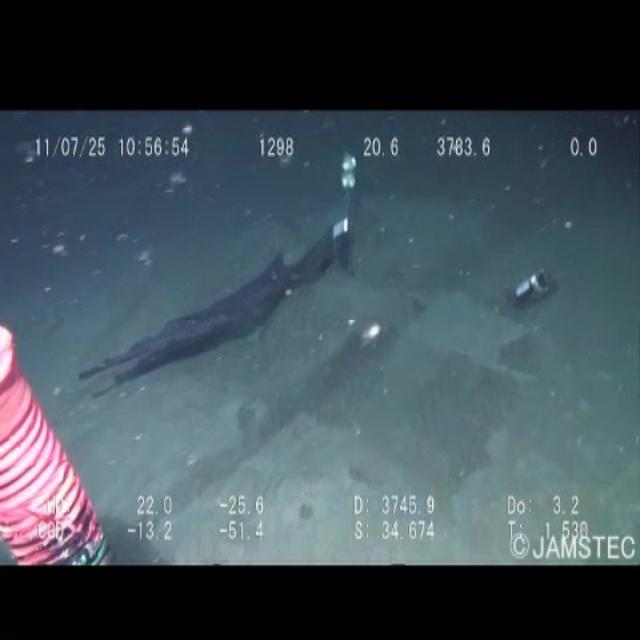Metal: (66, 225, 390, 425), (489, 262, 568, 364)
